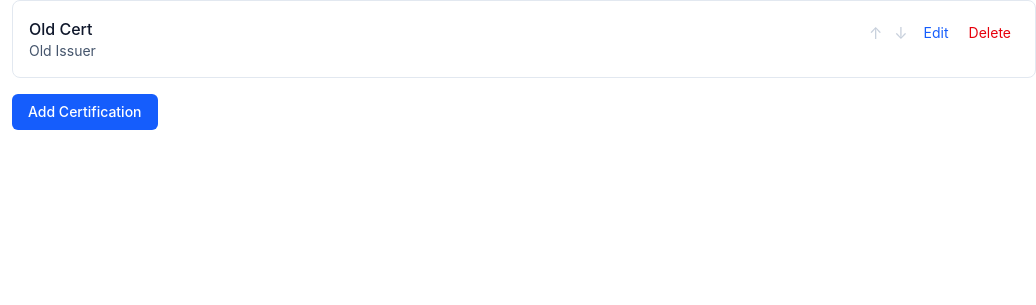
Test case: CertificationSection › edits an existing certification
Click the button "Edit".
click(936, 33)  # box [916,19,957,47]
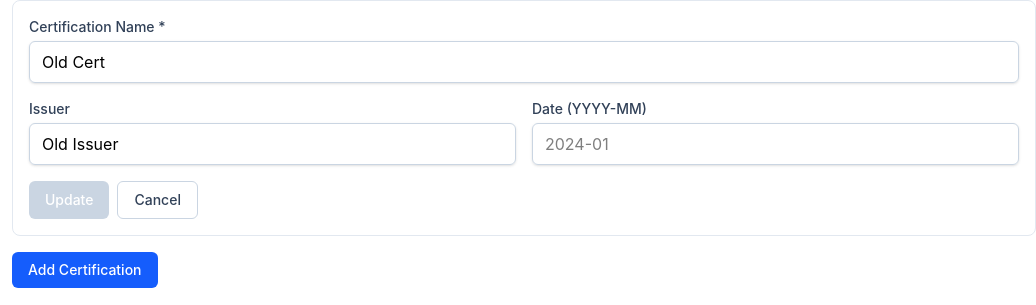
Replace the text in the field labelled "Certification Name *" with "New Cert" at (524, 62), box [29,41,1019,83]
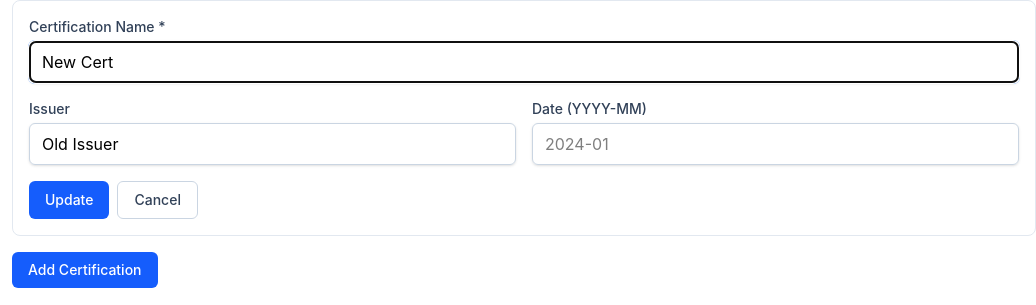
Click the button "Update".
click(69, 200)  # box [29,181,110,219]
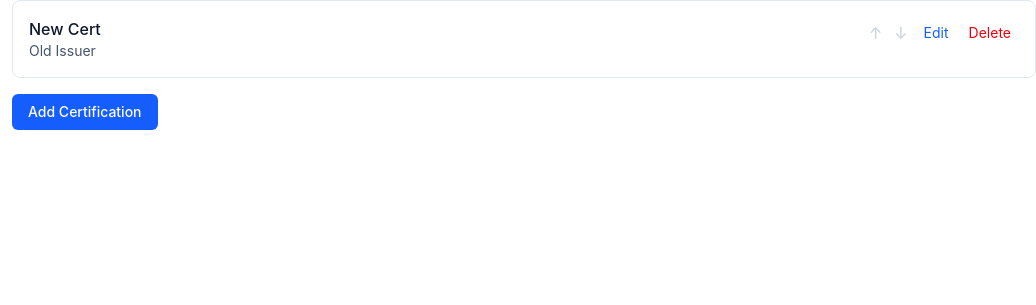
Check: the heading "Old Cert" is not shown
Check: the heading "New Cert" is shown, box [29,19,101,39]
